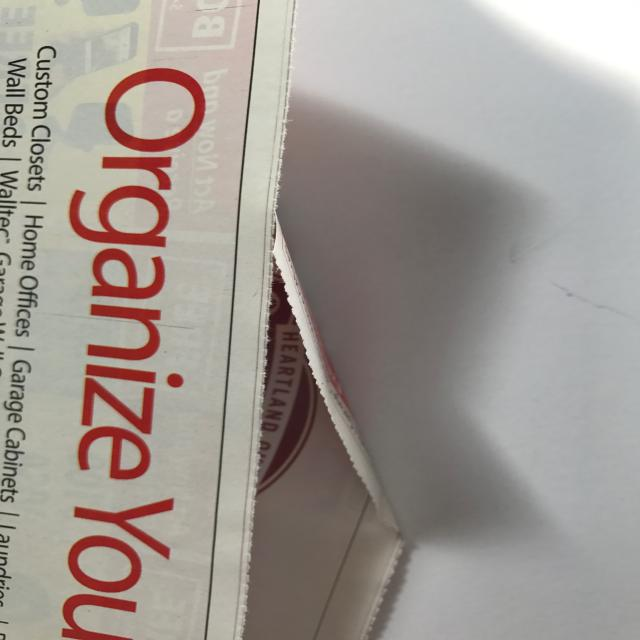Paper: (0, 0, 417, 640)
